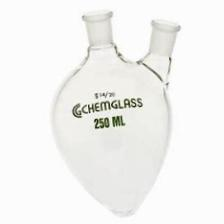Pear shaped flask: (36, 16, 193, 210)
